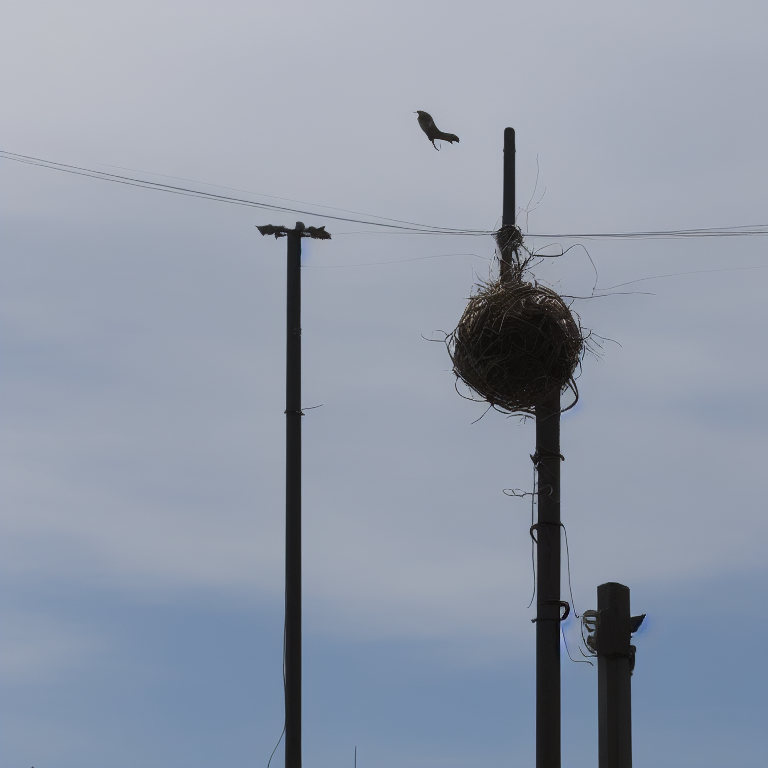nest: (456, 285, 583, 413)
